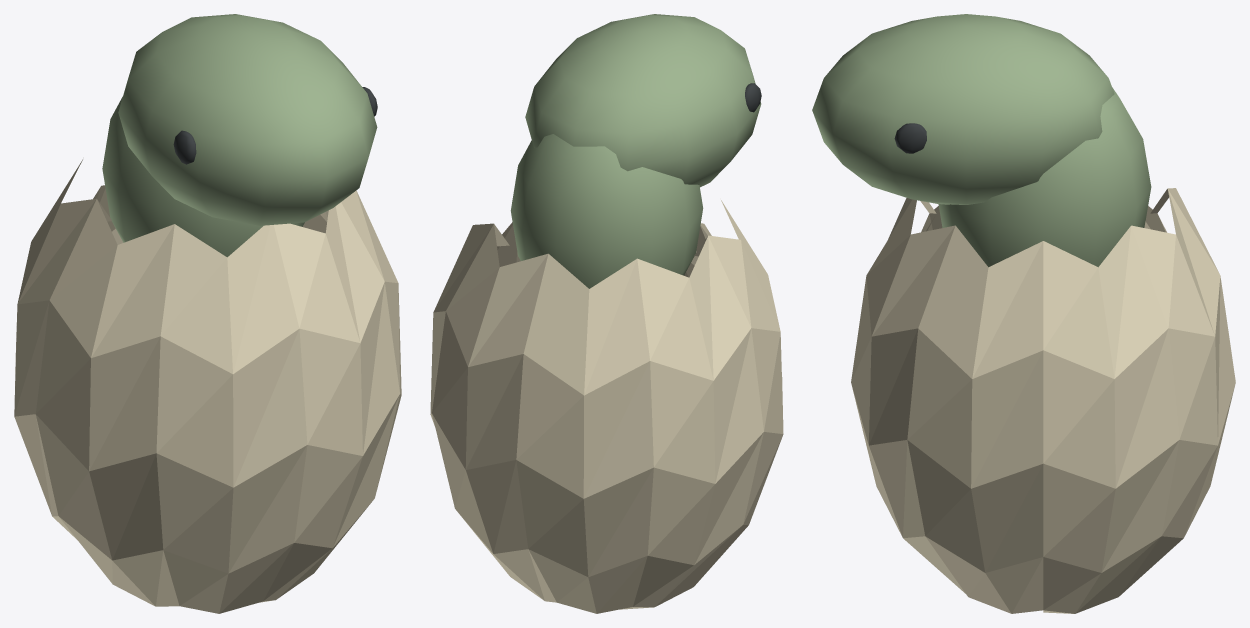
File: primeval-frontier-hatching-egg-d22de345__1765.glb
3 views of the same model, side by side, from view 1: azimuth 30°, elevation 25°; view 2: azimuth 150°, elevation 25°; view 3: azimuth 270°, elevation 25° (orthographic). The views are drawn at different scales.
Visible parts, largest first — view 1: hatching-egg; view 2: hatching-egg; view 3: hatching-egg.
Boxes of the visible parts, box(x1,y1,x2,y2) form: hatching-egg: box(14, 14, 401, 613); hatching-egg: box(430, 14, 783, 613); hatching-egg: box(812, 14, 1235, 613).
Size of the model in its own units: 0.4992 by 0.8274 by 0.5496.
